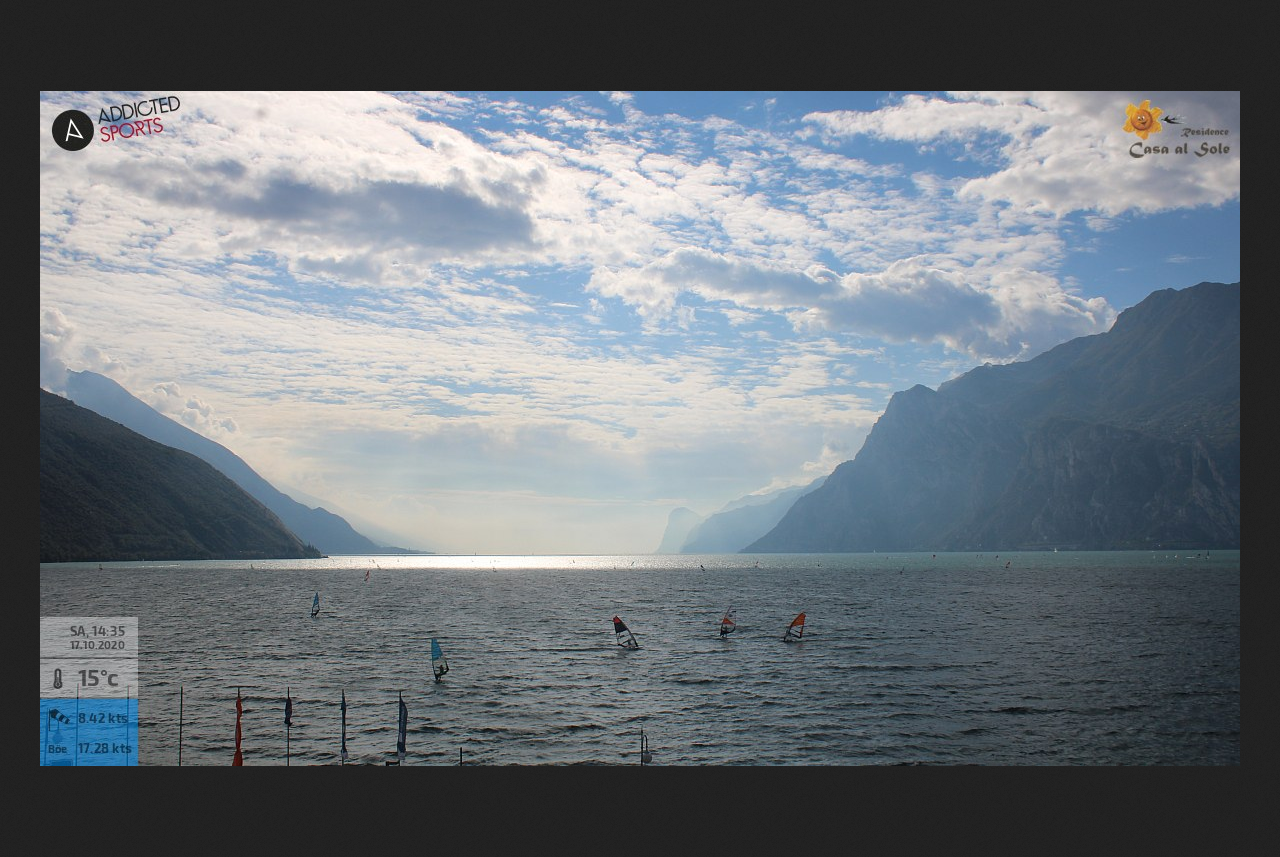no: (225, 681, 250, 773), (394, 691, 410, 764), (338, 691, 349, 761), (280, 684, 296, 730)
